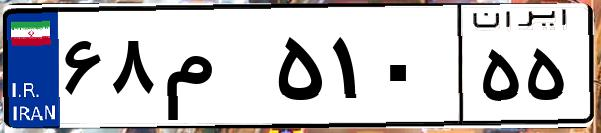0: (385, 28, 445, 110)
1: (330, 28, 385, 110)
5: (270, 28, 330, 110), (475, 38, 525, 113), (525, 38, 570, 115)
6: (57, 26, 110, 100)
8: (110, 28, 158, 98)
م: (158, 20, 270, 120)
